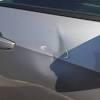doorouter-dent: (0, 14, 99, 96)
